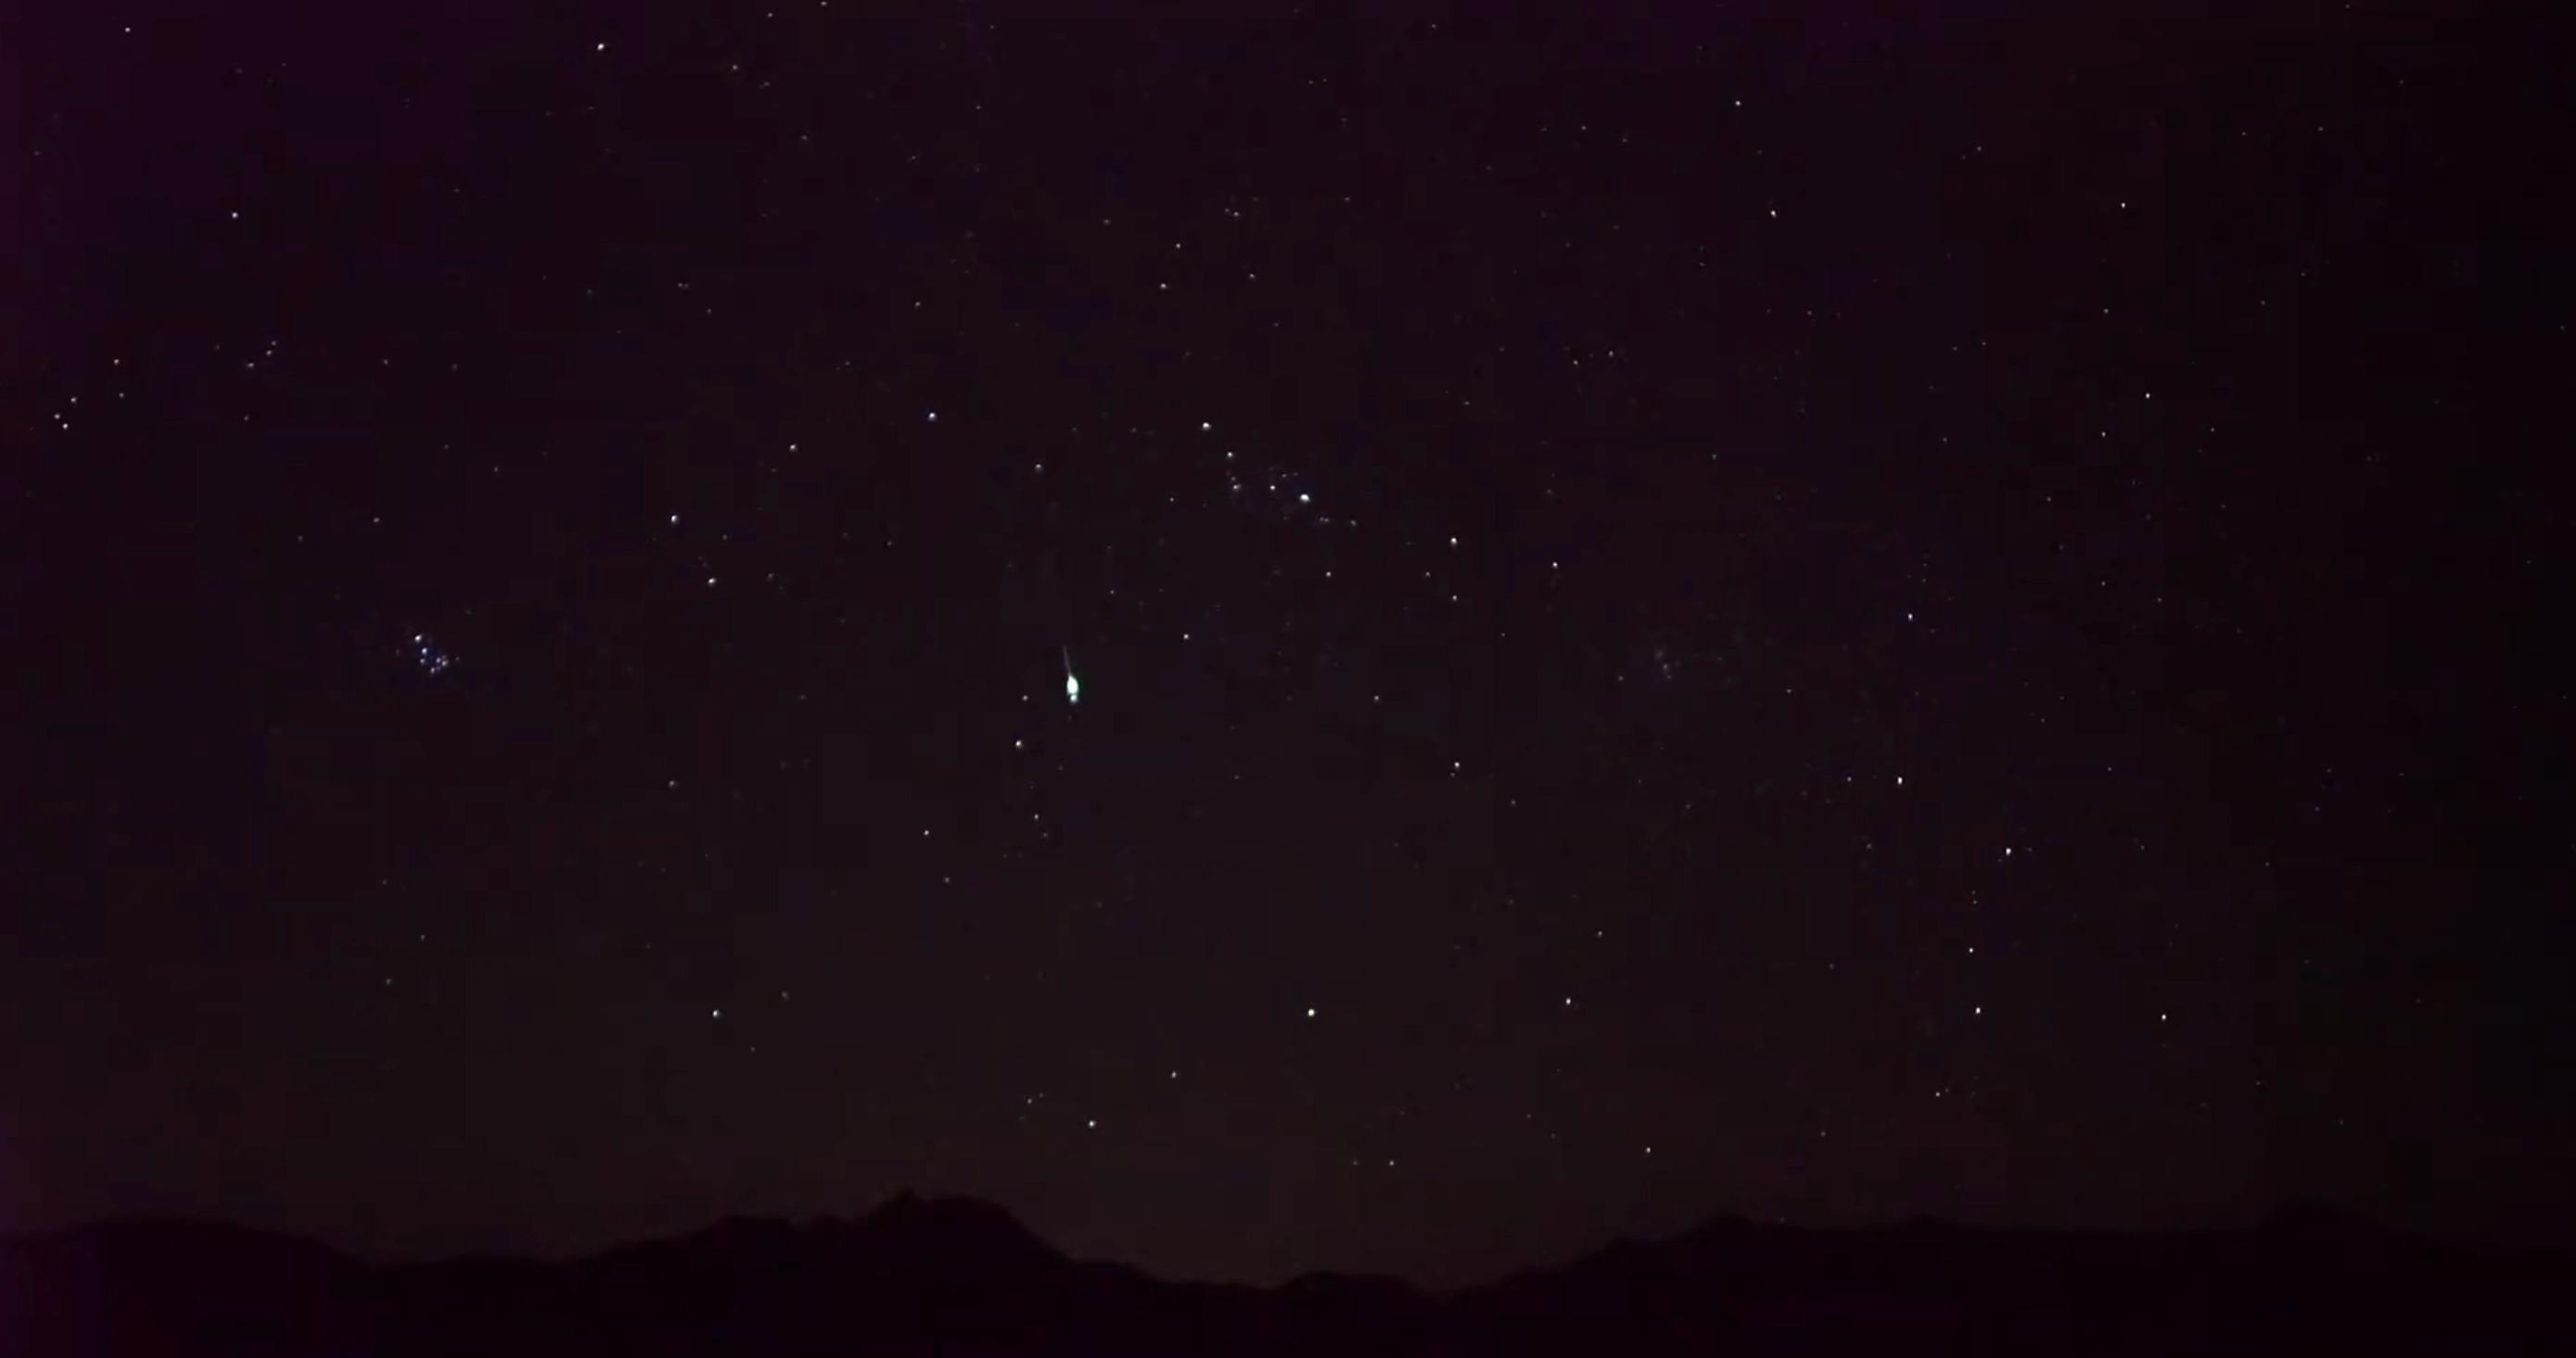meteorite: (1010, 637, 1145, 719)
